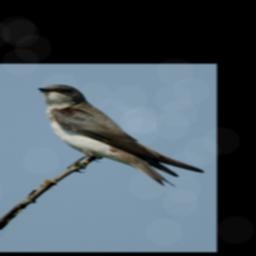Swallow: (37, 84, 205, 187)
